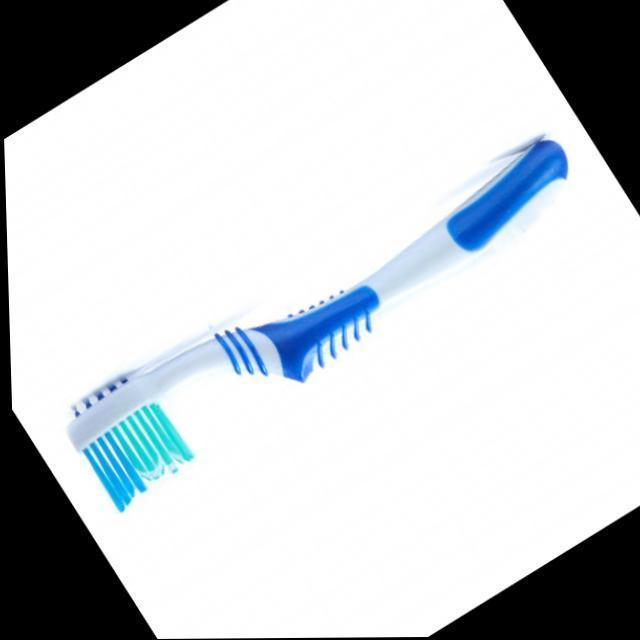toothbrush: (34, 102, 616, 524)
